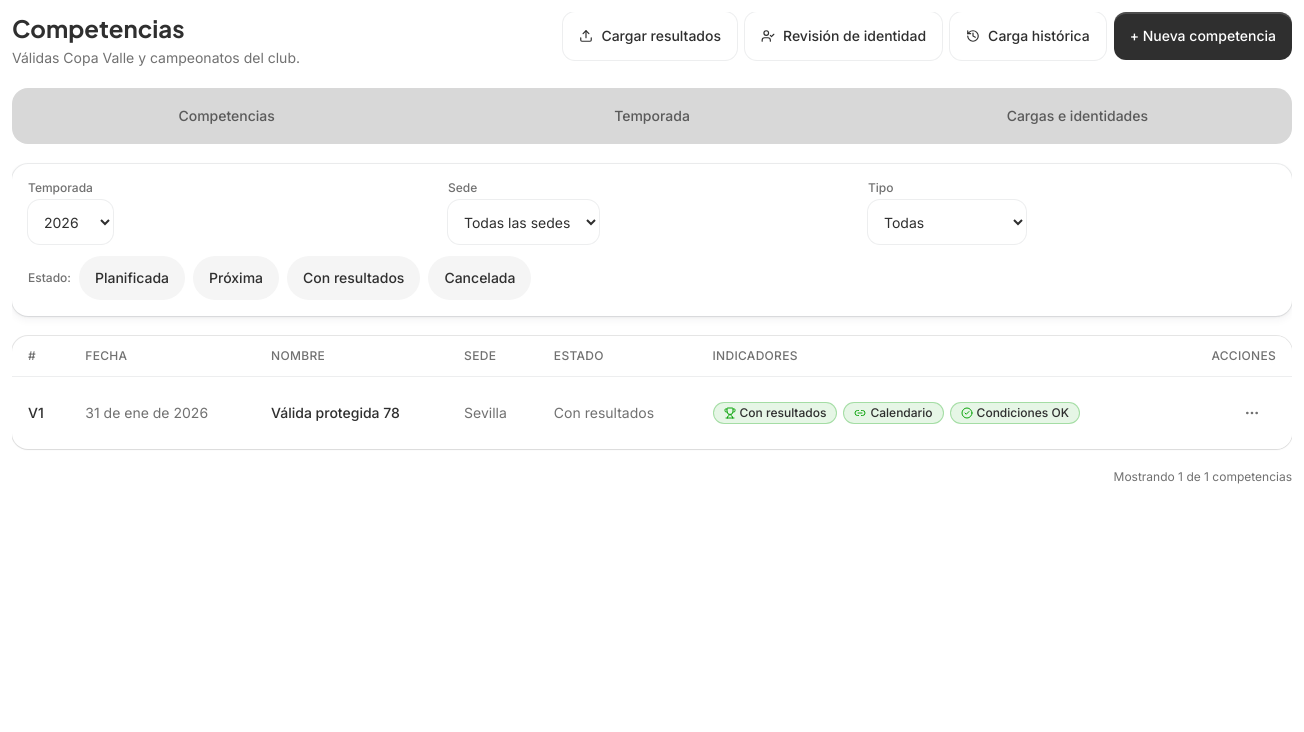
it: CompetitionsListPage — cleanup duplicado (feature 009) › coach: 'Eliminar duplicado' NO aparece en válida con resultados (protegida)
Expected: the link "Válida protegida 78" is shown, [271, 404, 400, 421]
Step 1. Click the button named "Acciones para Válida protegida 78" → (1252, 413), box [1228, 389, 1276, 437]
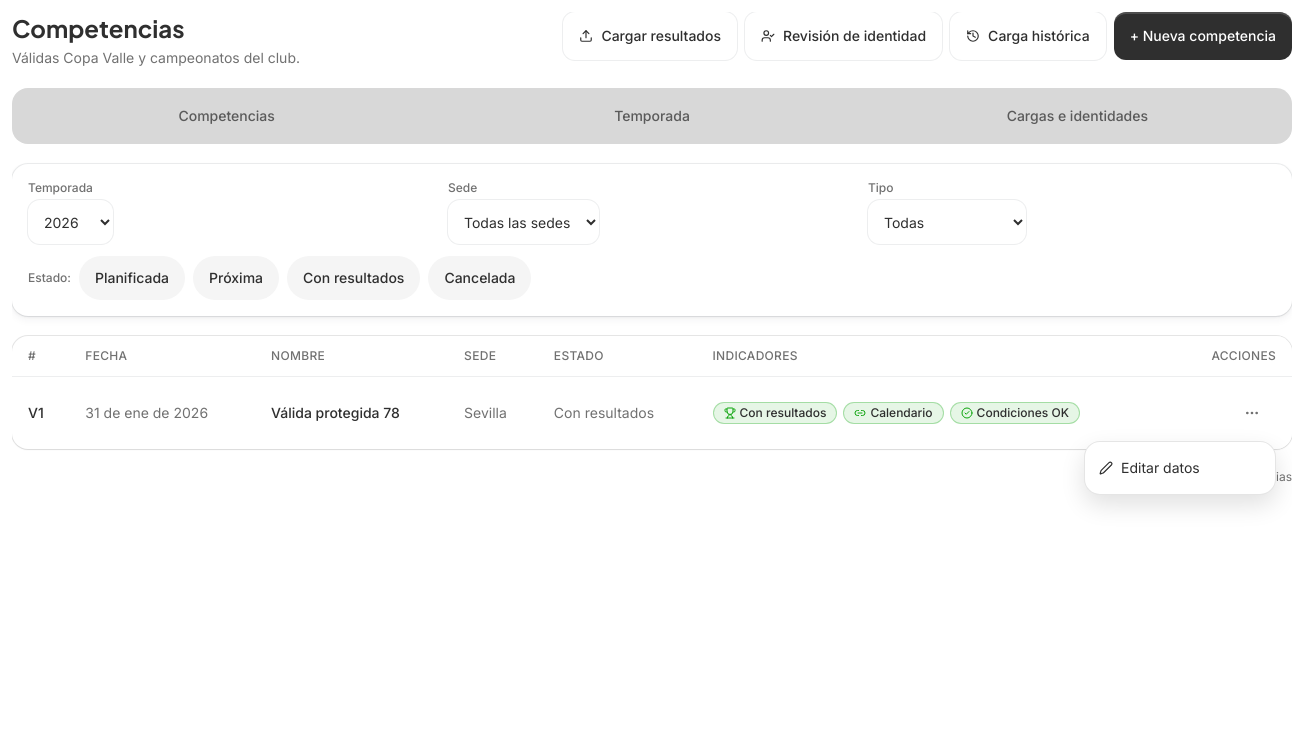
Expected: the menu item "Editar datos" is shown, [1099, 459, 1200, 476]
